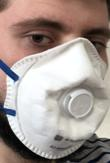with_mask: (1, 1, 110, 163)
